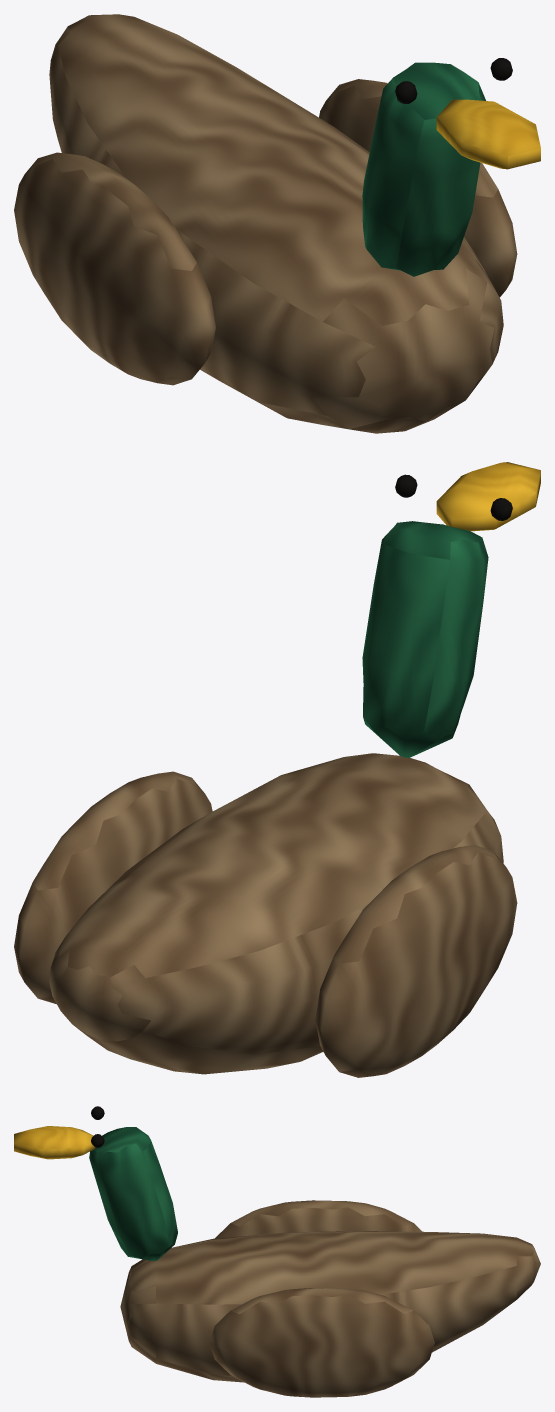
File: water_kuttanadan_duck.glb
3 views of the same model, one above another, from view 1: azimuth 30°, elevation 25°; view 2: azimuth 150°, elevation 25°; view 3: azimuth 270°, elevation 25° (orthographic). The views are drawn at different scales.
Visible parts, largest first — view 1: Body.014, Wing_L.001, Head.011, Wing_R.001, Bill, Eyes.014; view 2: Body.014, Wing_L.001, Head.011, Wing_R.001, Bill, Eyes.014; view 3: Body.014, Wing_R.001, Head.011, Wing_L.001, Bill.
Part boxes in pixels (x1,y1,x2,y2): Body.014: (49, 14, 503, 433); Wing_L.001: (14, 152, 215, 385); Head.011: (362, 62, 485, 276); Wing_R.001: (319, 79, 517, 297); Bill: (436, 99, 540, 169); Eyes.014: (395, 58, 512, 103); Body.014: (49, 753, 503, 1074); Wing_L.001: (315, 845, 517, 1077); Head.011: (362, 521, 488, 757); Wing_R.001: (14, 771, 212, 1003); Bill: (436, 462, 540, 531); Eyes.014: (395, 474, 512, 520); Body.014: (120, 1231, 540, 1382); Wing_R.001: (209, 1288, 434, 1397); Head.011: (89, 1127, 177, 1261); Wing_L.001: (215, 1200, 421, 1238); Bill: (14, 1126, 95, 1159).
Size of the model in its own units: 0.2959 by 0.3272 by 0.6109.
Materials: 4 (4 with a texture image).
